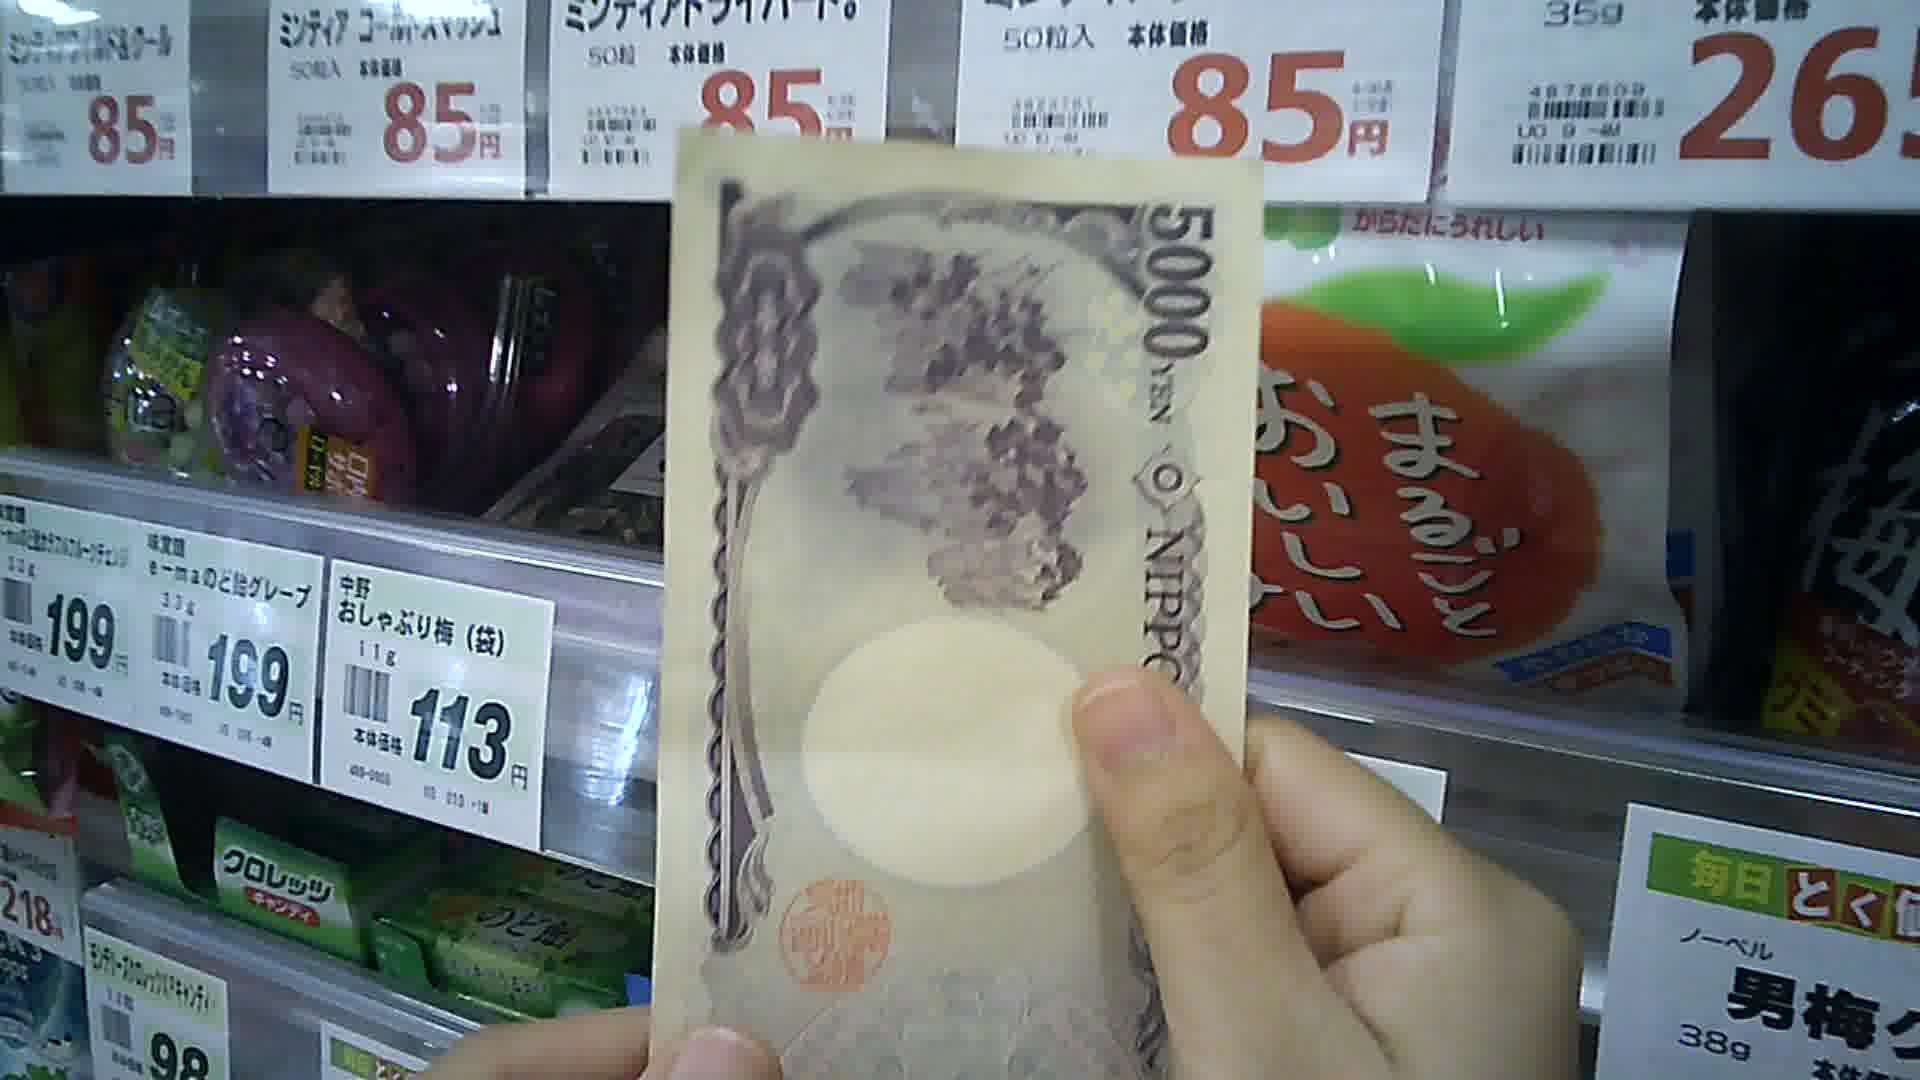5,000 Yen: (650, 117, 1262, 1079)
